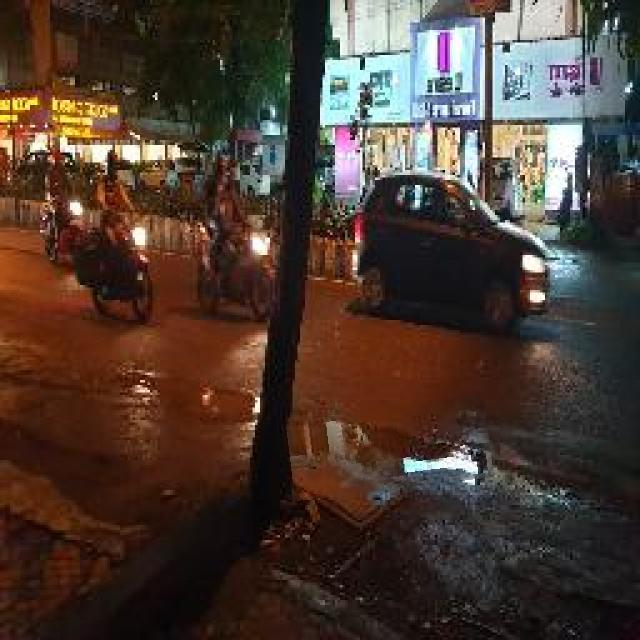puddle: (280, 401, 493, 497)
